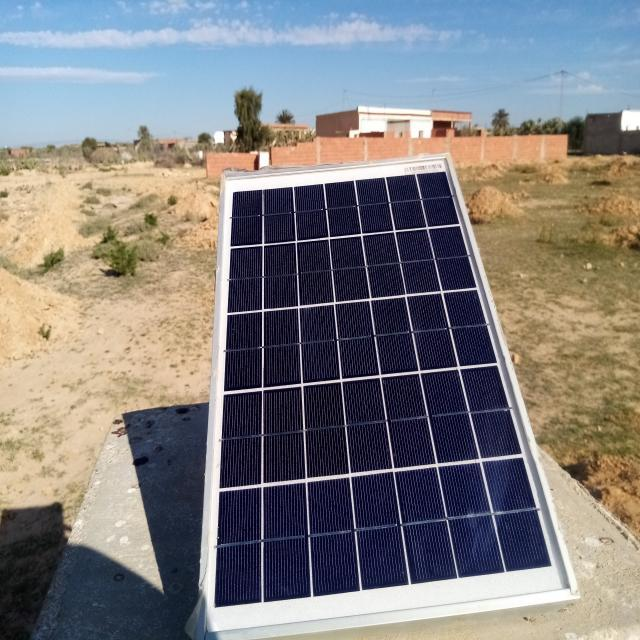no faulty: (205, 158, 574, 640)
